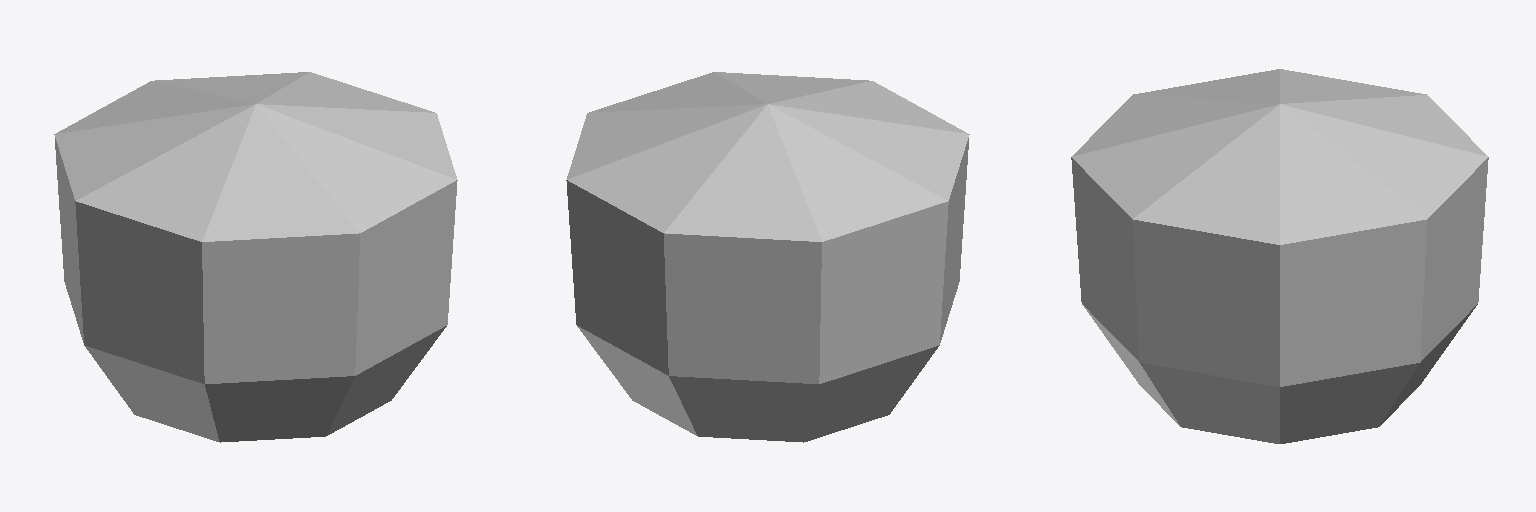
File: largebasket02.obj
The picture shows the model from 3 angles: view 1: azimuth 30°, elevation 25°; view 2: azimuth 150°, elevation 25°; view 3: azimuth 270°, elevation 25°; orthographic projection.
Parts seen in each view (by area): view 1: largebasket02; view 2: largebasket02; view 3: largebasket02.
Boxes of the visible parts, x1=… form: largebasket02: x1=54, y1=72, x2=457, y2=442; largebasket02: x1=566, y1=72, x2=969, y2=442; largebasket02: x1=1071, y1=69, x2=1488, y2=443.
Bounding box in the file's own units: 2.39 × 1.92 × 2.39.